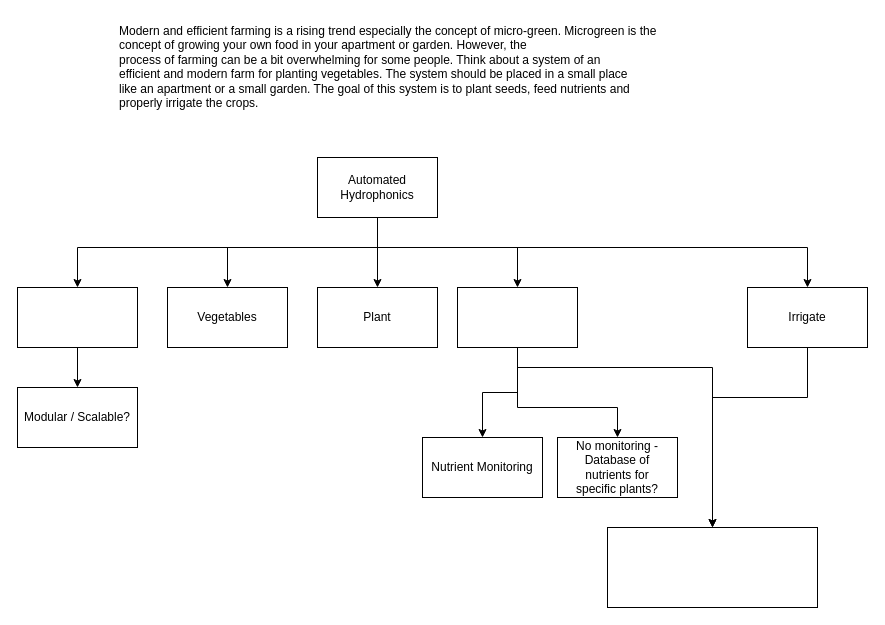
The diagram is 885 pixels wide and 625 high, and some of its shapes have lost their labels. Here are the shapes that lost their labels. From the top down, the centre of each, then its label:
point (77, 317): Small (fits in apartment)
point (517, 317): Feed Nutrients
point (712, 567): Deep Water Culture Pool with nutrients, we put hydrophonic blocks in it.
